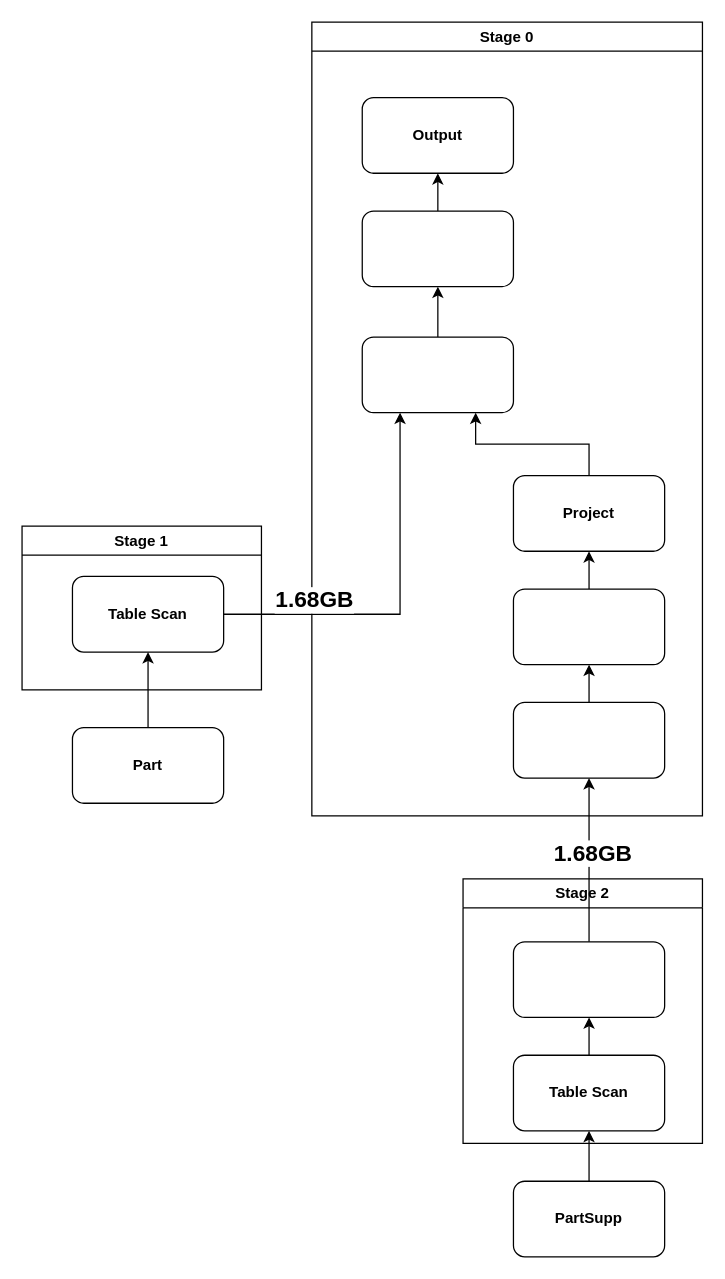
The diagram is 725 pixels wide and 1279 high, and some of its shapes have lost their labels. Here are the shapes that lost their labels. From the top down, the centre of each, then its label:
At [437,248]: "Filter Project".
At [437,374]: "Left Join spill = 1GB".
At [588,626]: "Aggregate keys = [partkey] spill = 1GB".
At [588,739]: "Local Exchange".
At [588,979]: "Aggregate keys = [partkey]".
